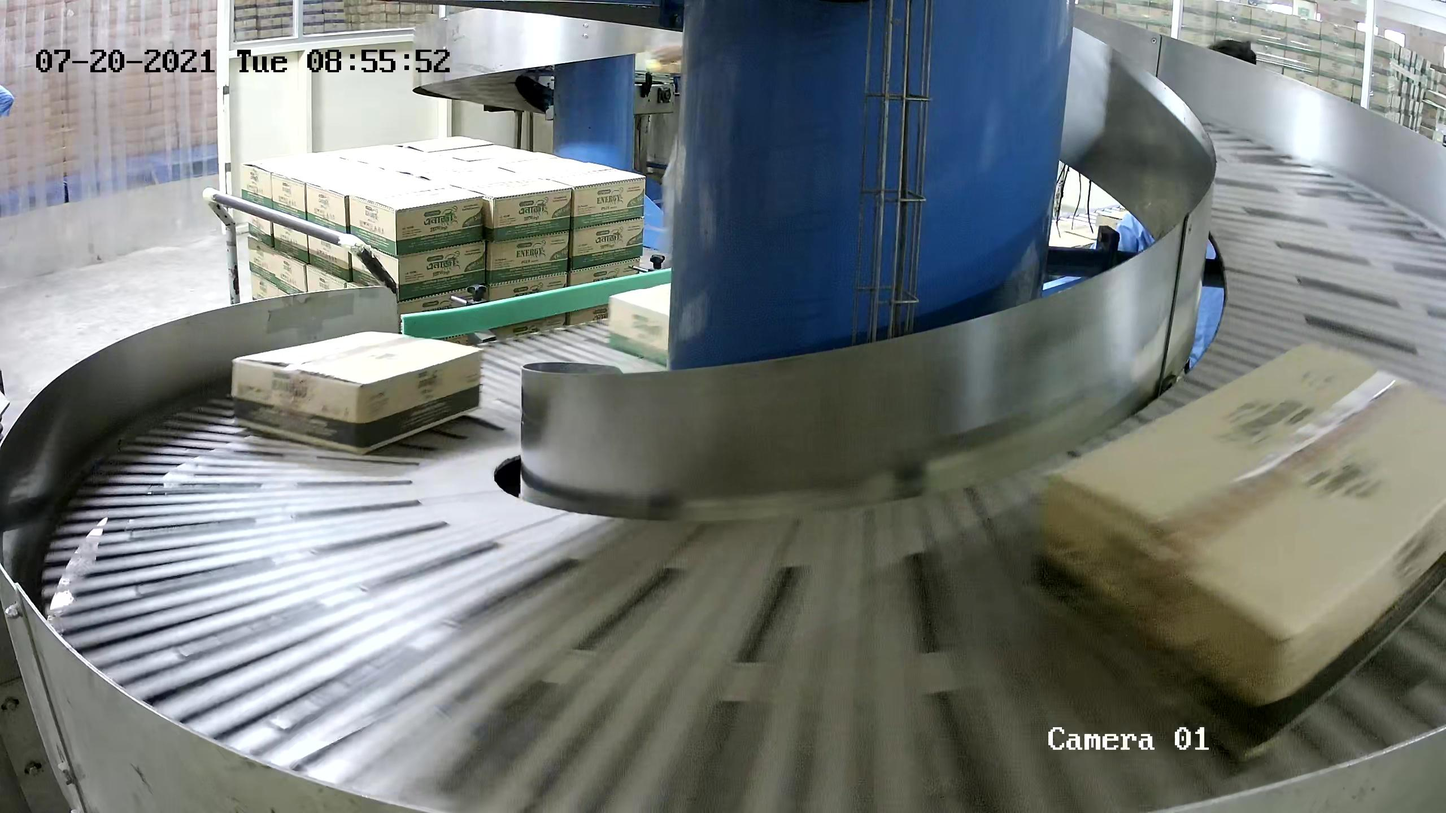Box: (1026, 337, 1446, 765), (230, 329, 484, 455), (608, 282, 672, 368)
